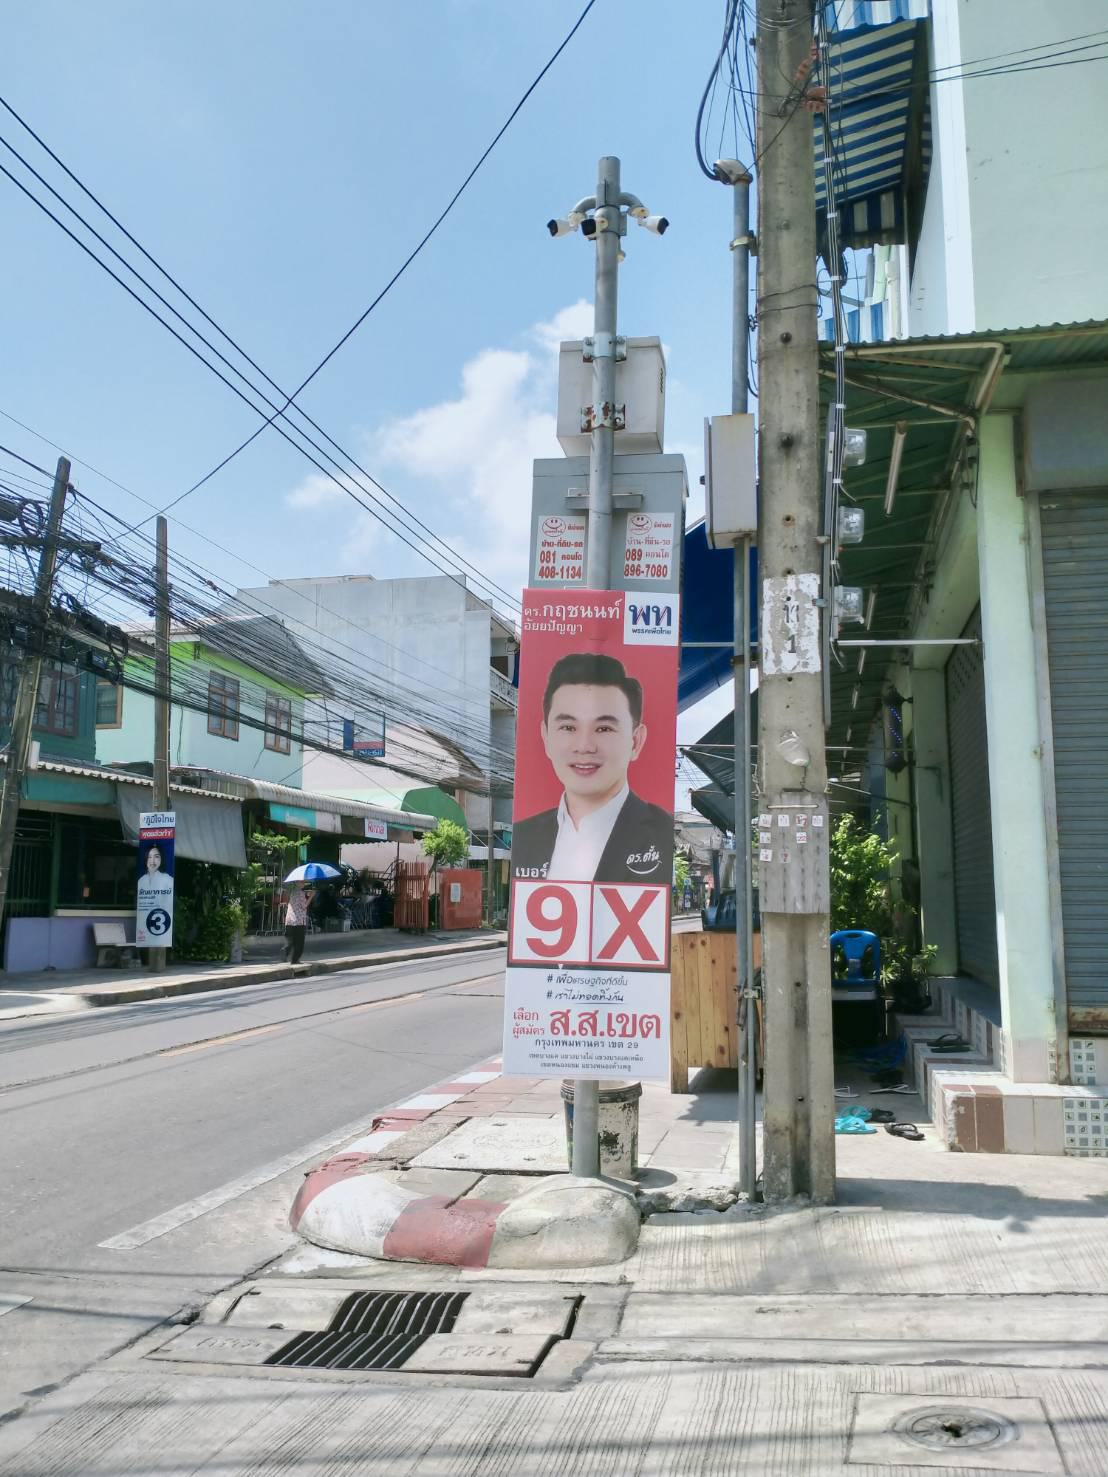Banner: (502, 590, 679, 1075)
